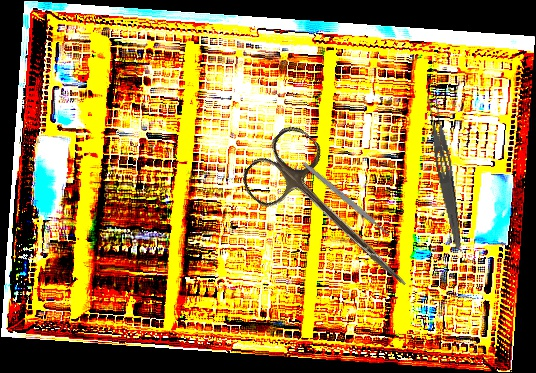Dressing Forceps: (422, 92, 470, 251)
Iris Scissors: (234, 119, 437, 313)
Scalpel Handle: (301, 161, 391, 237)
